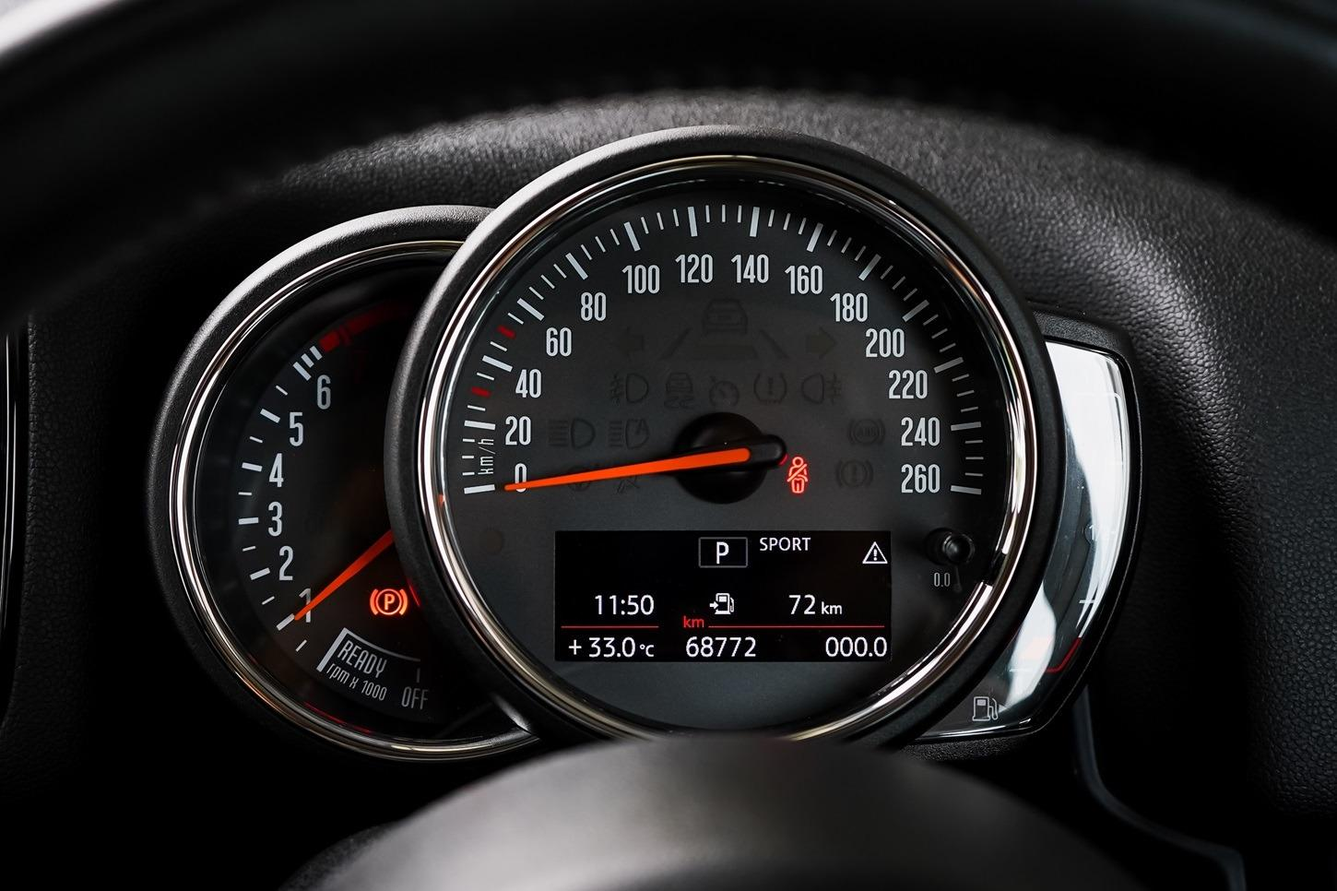-: (616, 653, 621, 658), (869, 652, 873, 657)
0: (641, 595, 655, 616), (622, 637, 636, 658), (825, 636, 839, 657), (874, 637, 888, 657), (840, 637, 853, 657), (855, 637, 868, 657)
1: (595, 594, 603, 616), (608, 594, 616, 615)
2: (803, 594, 816, 616), (744, 637, 757, 658)
3: (587, 636, 601, 658), (603, 637, 615, 658)
5: (628, 594, 639, 616)
6: (686, 635, 699, 658)
7: (787, 593, 802, 615), (729, 636, 742, 658), (714, 636, 727, 657)
8: (700, 636, 714, 658)
X: (698, 537, 748, 569), (708, 591, 736, 617), (860, 541, 889, 565), (638, 643, 656, 658), (568, 638, 583, 656), (830, 603, 843, 615), (779, 537, 790, 551), (692, 618, 705, 629), (682, 615, 691, 629), (792, 537, 801, 551), (802, 537, 811, 551), (759, 536, 767, 551), (821, 601, 829, 615), (769, 537, 777, 551), (620, 598, 626, 616)
odometer: (558, 529, 895, 665)
